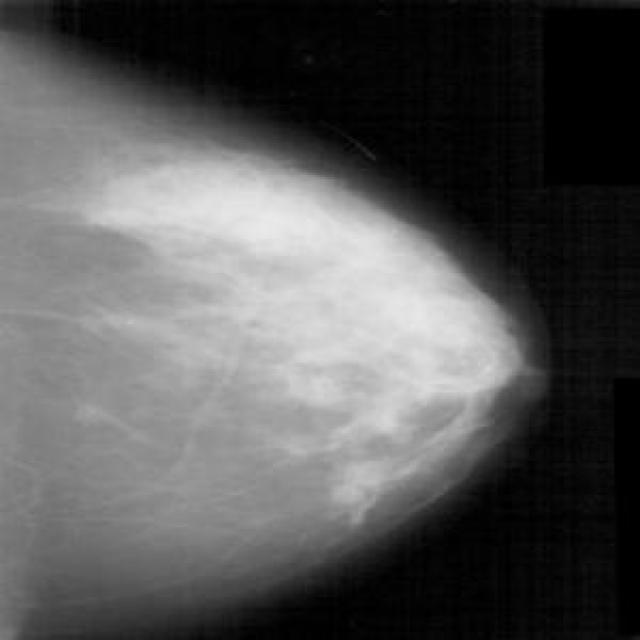tumor: (100, 136, 361, 324), (384, 286, 512, 444)
